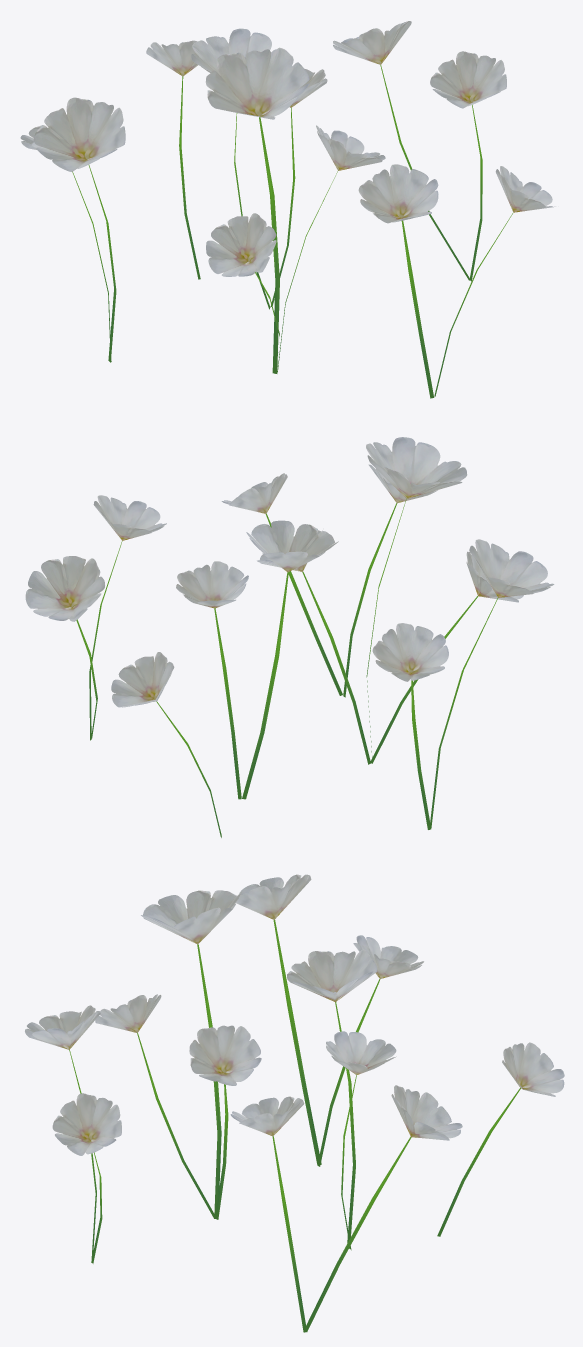
Rendered from SM_FlowerGroup_01.fbx.
3 renders of one model, top to bottom at view 1: azimuth 30°, elevation 25°; view 2: azimuth 150°, elevation 25°; view 3: azimuth 270°, elevation 25°, orthographic. The views are drawn at different scales.
Parts seen in each view (by area): view 1: SM_FlowerGroup_01; view 2: SM_FlowerGroup_01; view 3: SM_FlowerGroup_01.
Part boxes in pixels (x1,y1,x2,y2): SM_FlowerGroup_01: [20, 21, 555, 398]; SM_FlowerGroup_01: [25, 437, 554, 837]; SM_FlowerGroup_01: [25, 874, 564, 1332].
Bounding box in the file's own units: 144 × 96.18 × 152.
